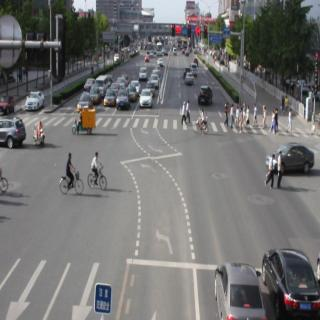Car: (258, 245, 318, 318), (210, 251, 270, 320), (275, 143, 319, 183), (0, 112, 26, 155), (25, 90, 45, 115), (199, 82, 218, 108), (77, 91, 93, 119), (1, 91, 19, 115), (100, 71, 112, 99), (140, 88, 155, 108), (90, 79, 100, 106), (117, 85, 128, 108), (145, 76, 164, 89), (136, 61, 149, 80), (106, 87, 117, 107), (128, 82, 139, 101), (185, 72, 196, 86), (190, 63, 199, 76)
